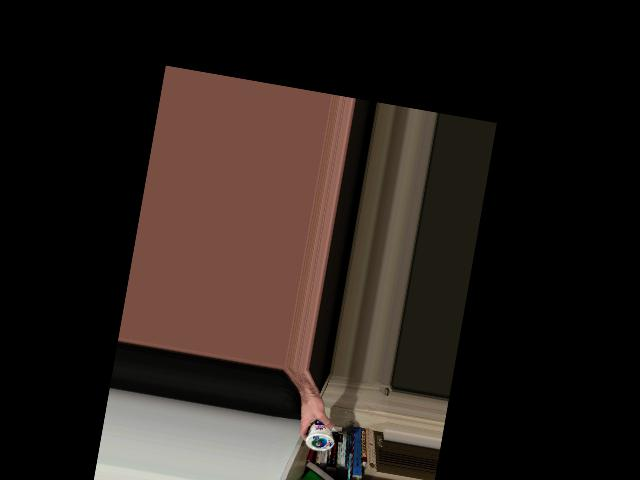cotage: (301, 413, 338, 455)
